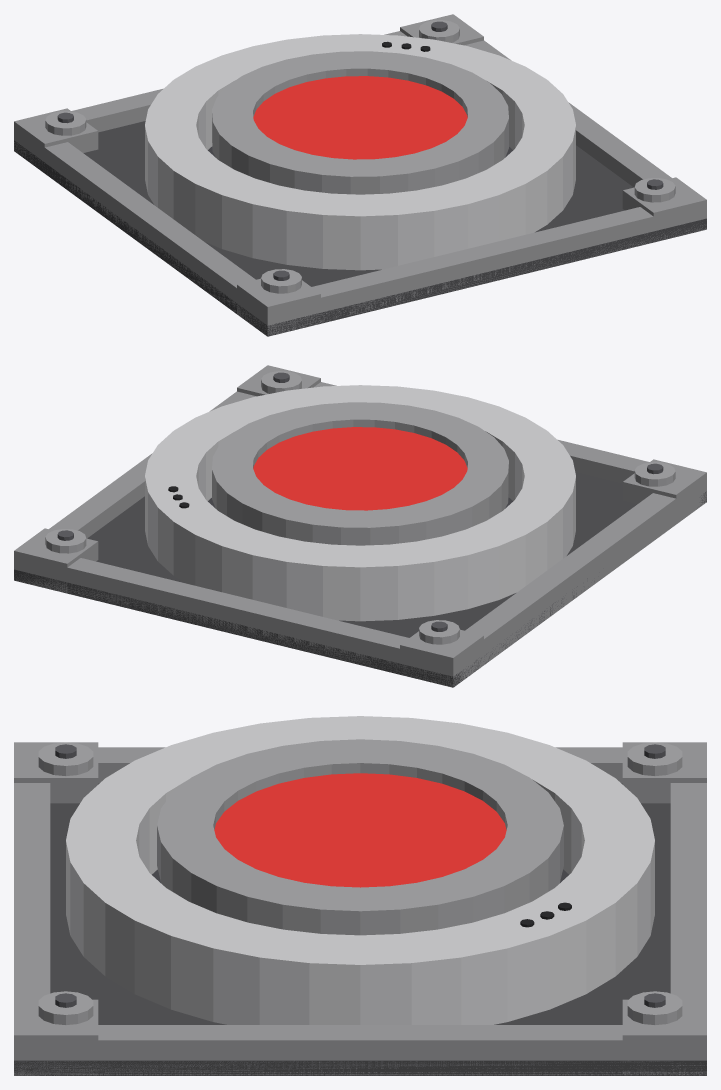
File: vge_e_gravhulk_engine.obj
3 renders of one model, top to bottom at view 1: azimuth 30°, elevation 25°; view 2: azimuth 150°, elevation 25°; view 3: azimuth 270°, elevation 25°, orthographic. The views are drawn at different scales.
Visible parts, largest first — view 1: vge_gravhulk_engine_18, vge_gravhulk_engine_19, vge_gravhulk_engine_0, vge_gravhulk_engine_20, vge_gravhulk_engine_1, vge_gravhulk_engine_3, vge_gravhulk_engine_4, vge_gravhulk_engine_2, vge_gravhulk_engine_6, vge_gravhulk_engine_5, vge_gravhulk_engine_7, vge_gravhulk_engine_8 (+4 smaller); view 2: vge_gravhulk_engine_18, vge_gravhulk_engine_19, vge_gravhulk_engine_2, vge_gravhulk_engine_20, vge_gravhulk_engine_0, vge_gravhulk_engine_3, vge_gravhulk_engine_4, vge_gravhulk_engine_1, vge_gravhulk_engine_8, vge_gravhulk_engine_5, vge_gravhulk_engine_6, vge_gravhulk_engine_7 (+4 smaller); view 3: vge_gravhulk_engine_18, vge_gravhulk_engine_19, vge_gravhulk_engine_0, vge_gravhulk_engine_20, vge_gravhulk_engine_4, vge_gravhulk_engine_1, vge_gravhulk_engine_2, vge_gravhulk_engine_7, vge_gravhulk_engine_8, vge_gravhulk_engine_5, vge_gravhulk_engine_6, vge_gravhulk_engine_3 (+4 smaller).
Part boxes in pixels (x1=…): vge_gravhulk_engine_18: x1=145, y1=34, x2=575, y2=270; vge_gravhulk_engine_19: x1=212, y1=51, x2=508, y2=194; vge_gravhulk_engine_0: x1=14, y1=121, x2=706, y2=336; vge_gravhulk_engine_20: x1=253, y1=76, x2=467, y2=159; vge_gravhulk_engine_1: x1=254, y1=203, x2=706, y2=335; vge_gravhulk_engine_3: x1=27, y1=137, x2=255, y2=325; vge_gravhulk_engine_4: x1=464, y1=40, x2=671, y2=187; vge_gravhulk_engine_2: x1=14, y1=31, x2=407, y2=154; vge_gravhulk_engine_6: x1=14, y1=108, x2=98, y2=167; vge_gravhulk_engine_5: x1=237, y1=278, x2=320, y2=335; vge_gravhulk_engine_7: x1=622, y1=177, x2=706, y2=234; vge_gravhulk_engine_8: x1=400, y1=14, x2=483, y2=45; vge_gravhulk_engine_18: x1=145, y1=385, x2=575, y2=621; vge_gravhulk_engine_19: x1=212, y1=402, x2=508, y2=545; vge_gravhulk_engine_2: x1=14, y1=554, x2=466, y2=687; vge_gravhulk_engine_20: x1=253, y1=427, x2=467, y2=510; vge_gravhulk_engine_0: x1=14, y1=472, x2=706, y2=687; vge_gravhulk_engine_3: x1=465, y1=486, x2=693, y2=677; vge_gravhulk_engine_4: x1=49, y1=391, x2=256, y2=538; vge_gravhulk_engine_1: x1=313, y1=382, x2=706, y2=511; vge_gravhulk_engine_8: x1=14, y1=528, x2=98, y2=593; vge_gravhulk_engine_5: x1=622, y1=459, x2=706, y2=524; vge_gravhulk_engine_6: x1=400, y1=629, x2=483, y2=686; vge_gravhulk_engine_7: x1=237, y1=365, x2=320, y2=396; vge_gravhulk_engine_18: x1=66, y1=716, x2=654, y2=1024; vge_gravhulk_engine_19: x1=157, y1=739, x2=563, y2=935; vge_gravhulk_engine_0: x1=14, y1=783, x2=706, y2=1075; vge_gravhulk_engine_20: x1=214, y1=773, x2=506, y2=887; vge_gravhulk_engine_4: x1=50, y1=1025, x2=670, y2=1075; vge_gravhulk_engine_1: x1=14, y1=783, x2=50, y2=1075; vge_gravhulk_engine_2: x1=670, y1=783, x2=706, y2=1075; vge_gravhulk_engine_7: x1=14, y1=999, x2=98, y2=1075; vge_gravhulk_engine_8: x1=622, y1=999, x2=706, y2=1075; vge_gravhulk_engine_5: x1=14, y1=742, x2=98, y2=803; vge_gravhulk_engine_6: x1=622, y1=742, x2=706, y2=803; vge_gravhulk_engine_3: x1=98, y1=747, x2=622, y2=783.
Size of the model in its own units: 4.94 by 0.82 by 4.94.
